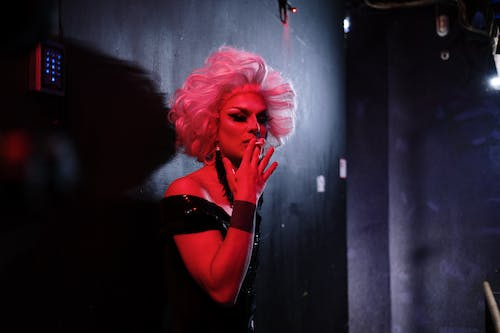cigarette: (255, 139, 266, 145)
